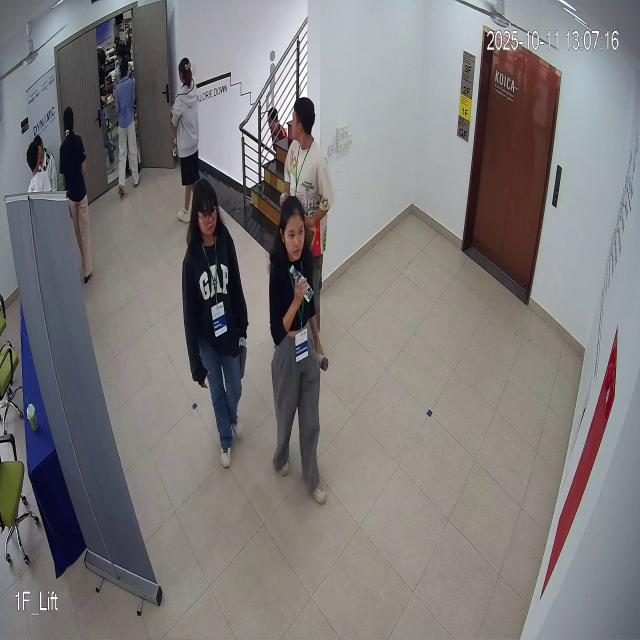face: (188, 180, 221, 250), (278, 191, 308, 264)
